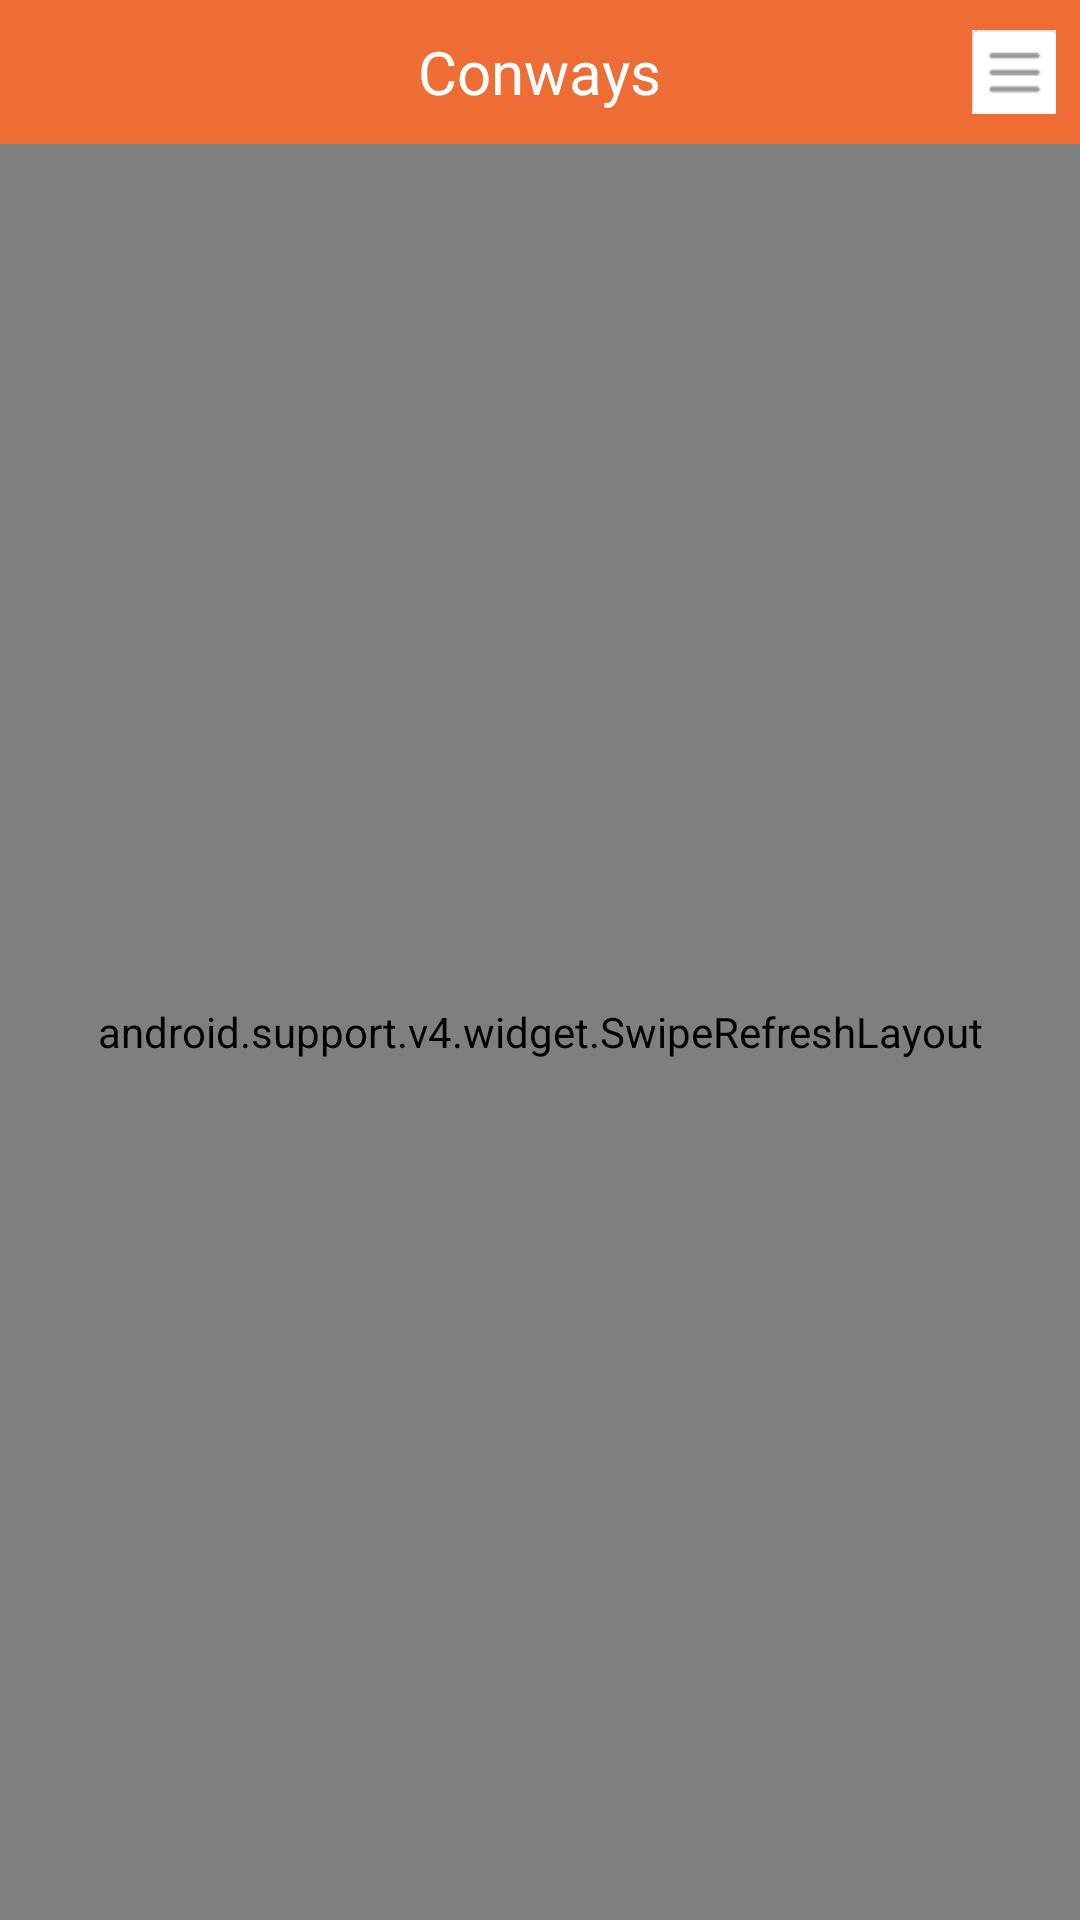

Icons on this 1080px x 1920px Android screen, each with its box as box(x1, y1, x2, y2):
menu: box(972, 30, 1056, 114)
